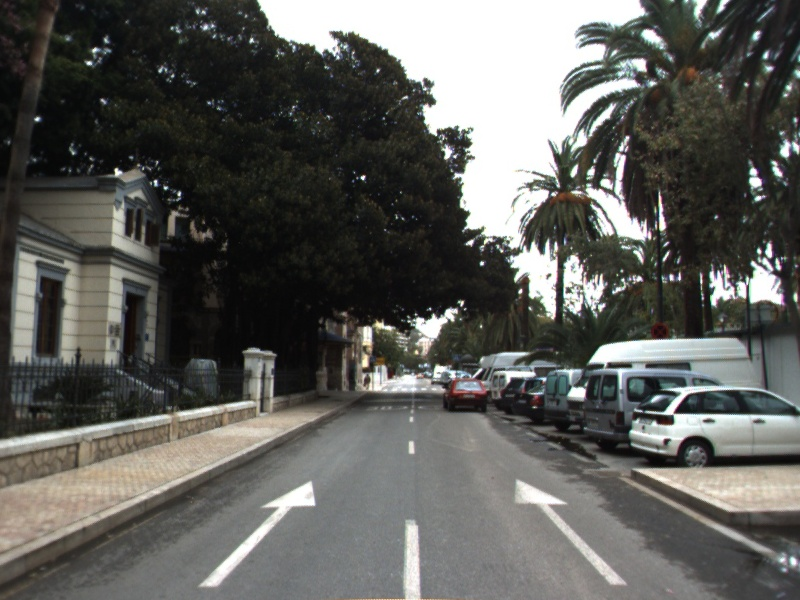STRAIGHT: (196, 478, 318, 590), (512, 476, 629, 587)
